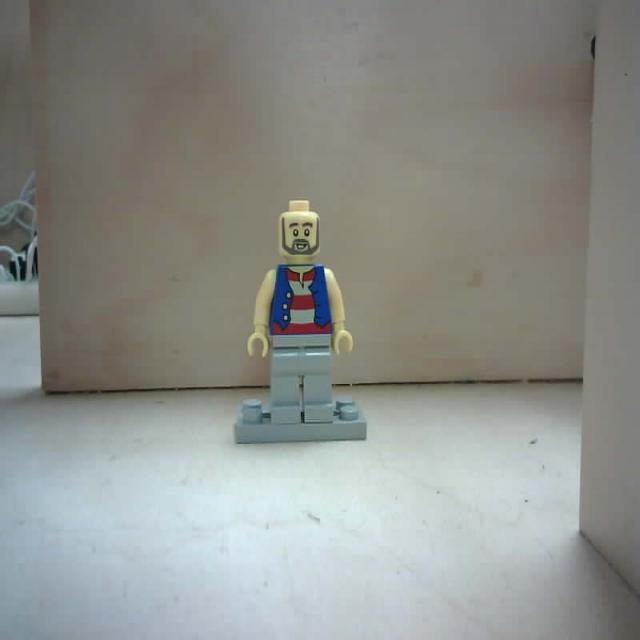Lego-People: (233, 198, 368, 460)
